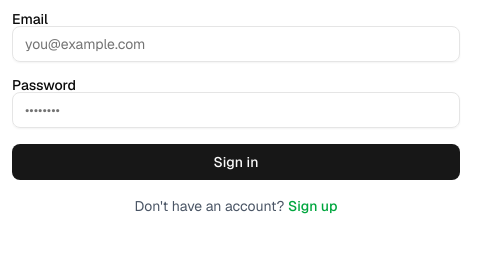
Test case: LoginForm › shows generic error for other failures
Type "user@example.com" into the field labelled "Email" at (236, 44), box x1=12 y1=26 x2=460 y2=62
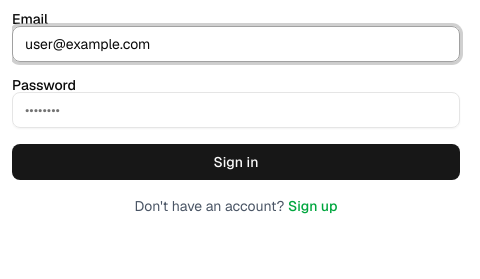
Type "Password123!" into the password field labelled "Password" at (236, 110), box x1=12 y1=92 x2=460 y2=128
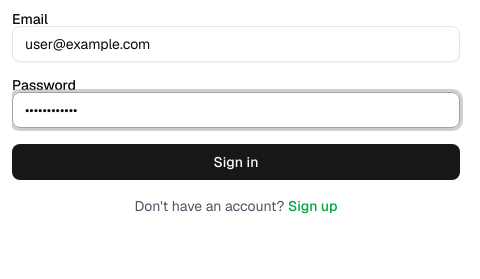
Click the button "Sign in" at (236, 162), box x1=12 y1=144 x2=460 y2=180
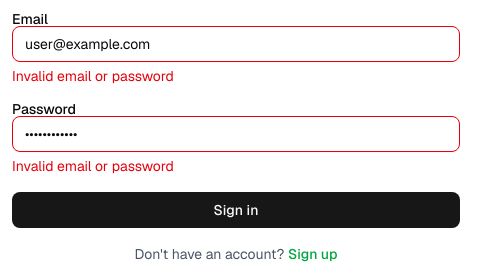
Check: the text "Invalid email or password" is shown 2 times, box x1=12 y1=67 x2=174 y2=85; x1=12 y1=157 x2=174 y2=175
